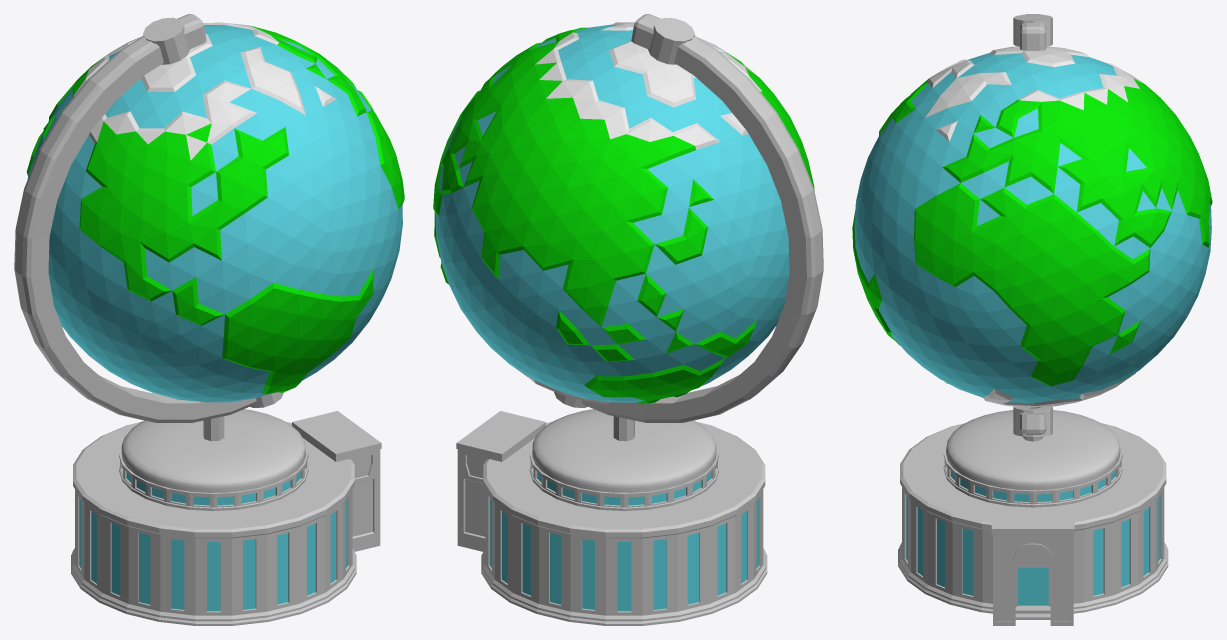
File: Globe.fbx
The picture shows the model from 3 angles, left to right: view 1: azimuth 30°, elevation 25°; view 2: azimuth 150°, elevation 25°; view 3: azimuth 270°, elevation 25°; orthographic projection. The views are drawn at different scales.
Parts seen in each view (by area): view 1: glove, Building, curve, Stand, Entrance, Stand Windows, clamp; view 2: glove, Building, curve, Stand, Entrance, Stand Windows, clamp; view 3: glove, Building, Stand, Entrance, Stand Windows, curve, clamp.
Part boxes in pixels (left/top/right/bottom): glove: left=26, top=22, right=404, bottom=402; Building: left=71, top=421, right=356, bottom=625; curve: left=14, top=14, right=256, bottom=422; Stand: left=121, top=409, right=305, bottom=492; Entrance: left=292, top=411, right=381, bottom=551; Stand Windows: left=119, top=443, right=308, bottom=511; clamp: left=143, top=17, right=283, bottom=407; glove: left=433, top=22, right=814, bottom=404; Building: left=481, top=421, right=767, bottom=625; curve: left=581, top=14, right=823, bottom=422; Stand: left=532, top=409, right=716, bottom=492; Entrance: left=456, top=411, right=545, bottom=551; Stand Windows: left=529, top=444, right=718, bottom=511; clamp: left=554, top=17, right=694, bottom=407; glove: left=852, top=46, right=1212, bottom=407; Building: left=898, top=423, right=1168, bottom=613; Stand: left=946, top=410, right=1120, bottom=490; Entrance: left=991, top=508, right=1074, bottom=625; Stand Windows: left=943, top=444, right=1122, bottom=507; curve: left=1020, top=14, right=1046, bottom=434; clamp: left=1013, top=14, right=1052, bottom=436.
Bounding box in the file's own units: 440 × 645 × 402.
